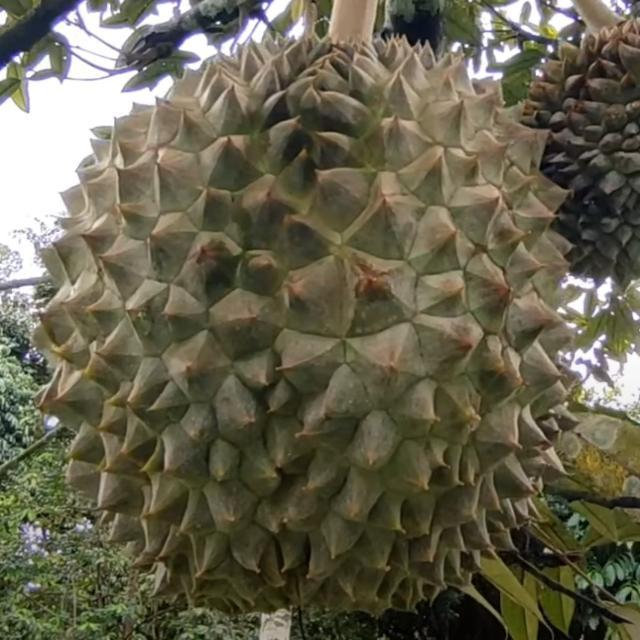immature: (27, 29, 571, 617)
